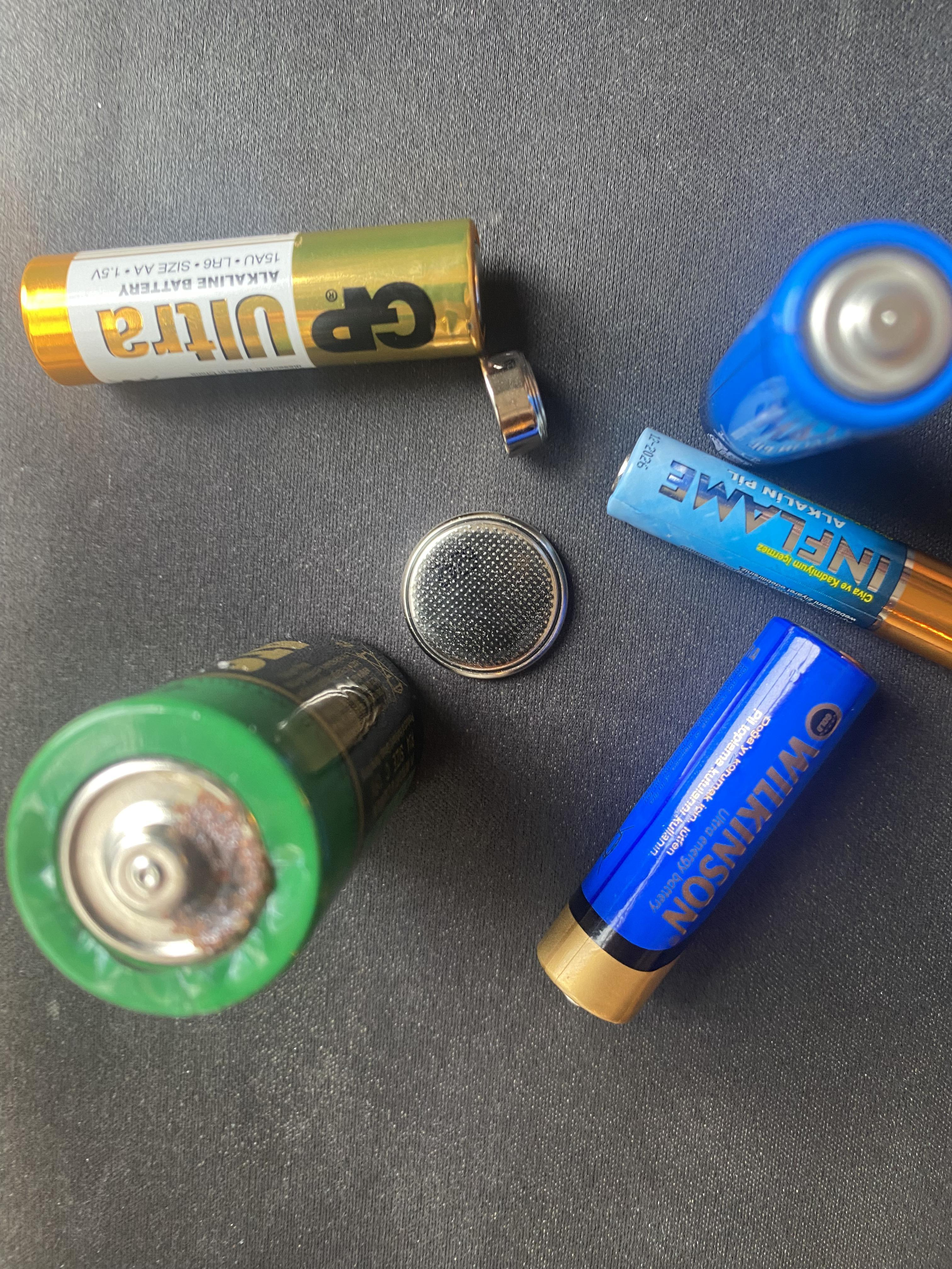AA: (530, 611, 889, 1037), (597, 417, 952, 672), (13, 211, 487, 393)
COIN: (398, 509, 572, 684)
